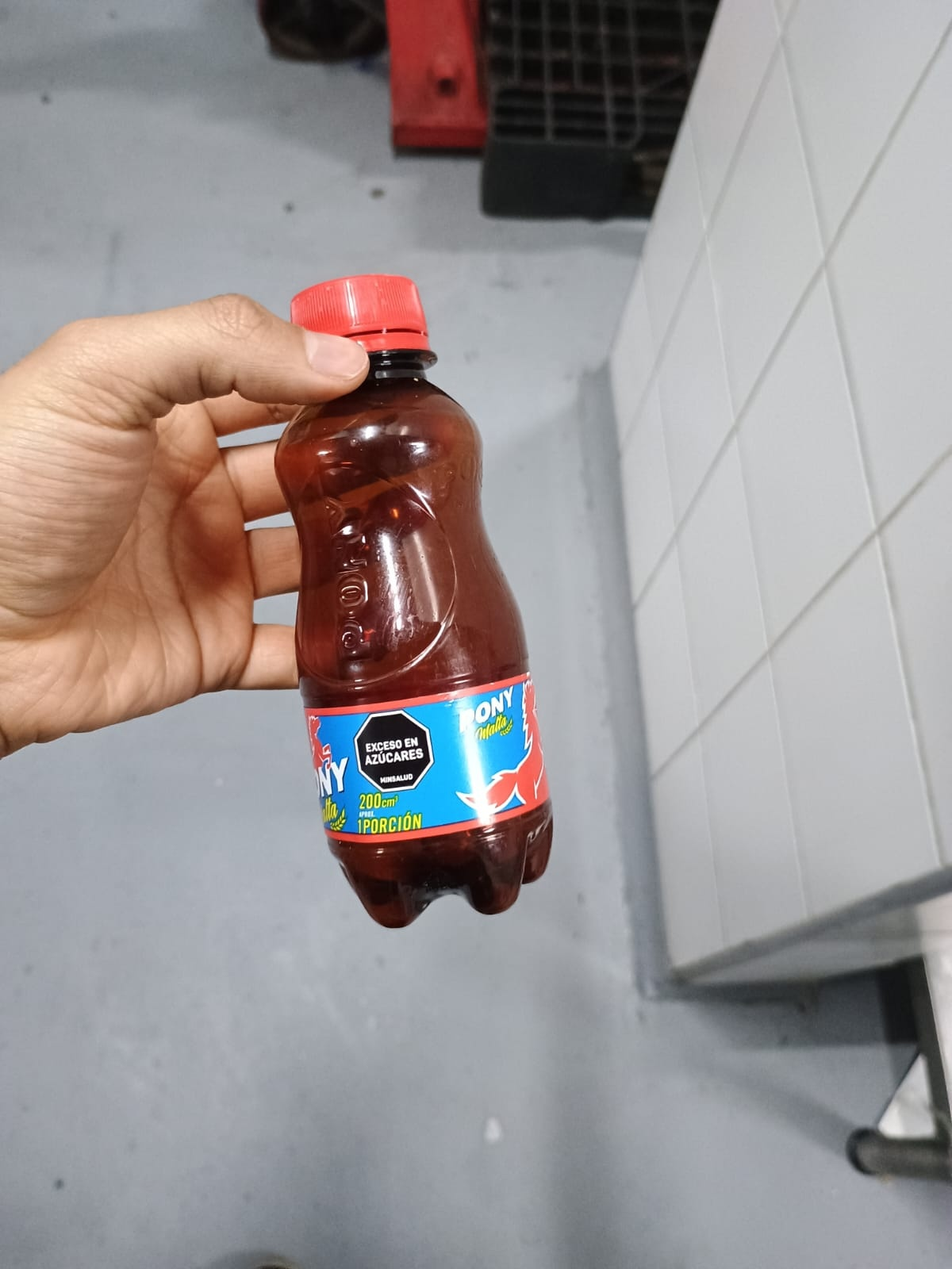Plastico: (278, 278, 556, 929)
